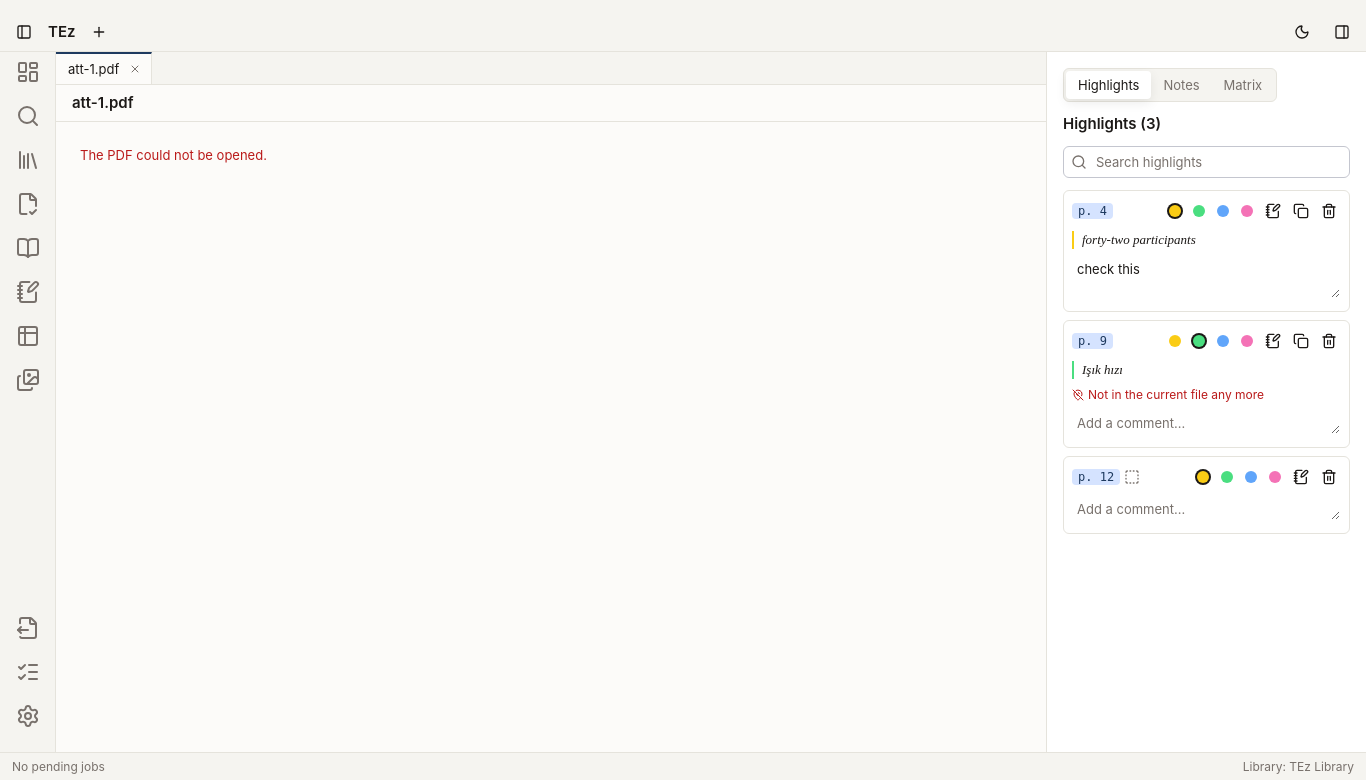
Test: from a highlight to a note › lists the notes about the paper in its own tab
This screenshot has width=1366, height=780.
Click the radio button labelled "Notes" at (1182, 85), box [1151,71,1212,99]
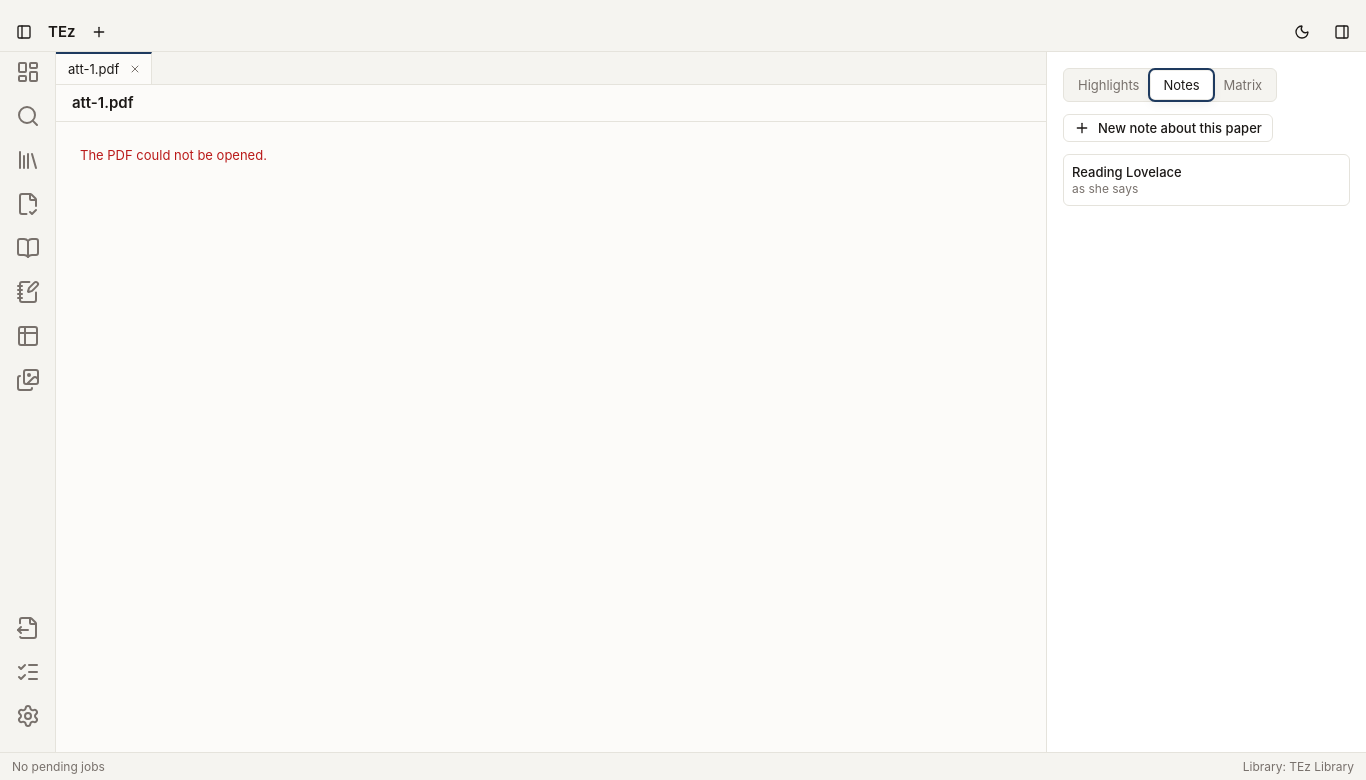
Check: the text "as she says" is shown, box [1072,181,1138,196]
